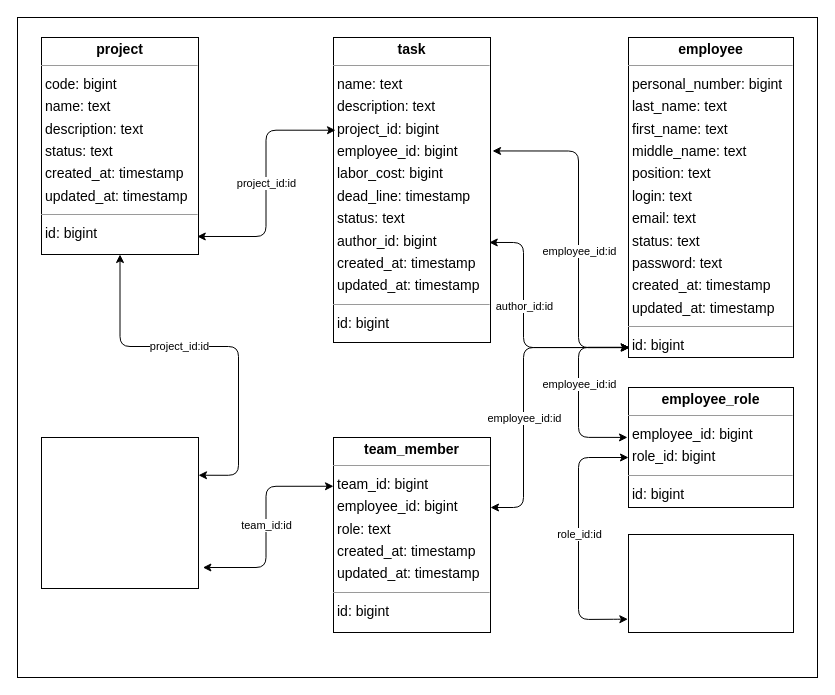
This 835x695 diagram has some shape labels left out. The centre of each missing label's shape, as x and y in pixels:
"role name: varchar(50) id: bigint" belongs at (711,583).
"team project_id: bigint created_at: timestamp updated_at: timestamp id: bigint" belongs at (119,512).
